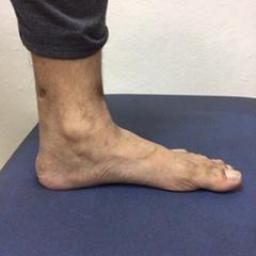Medial View -Left Foot-: (28, 88, 244, 210)
